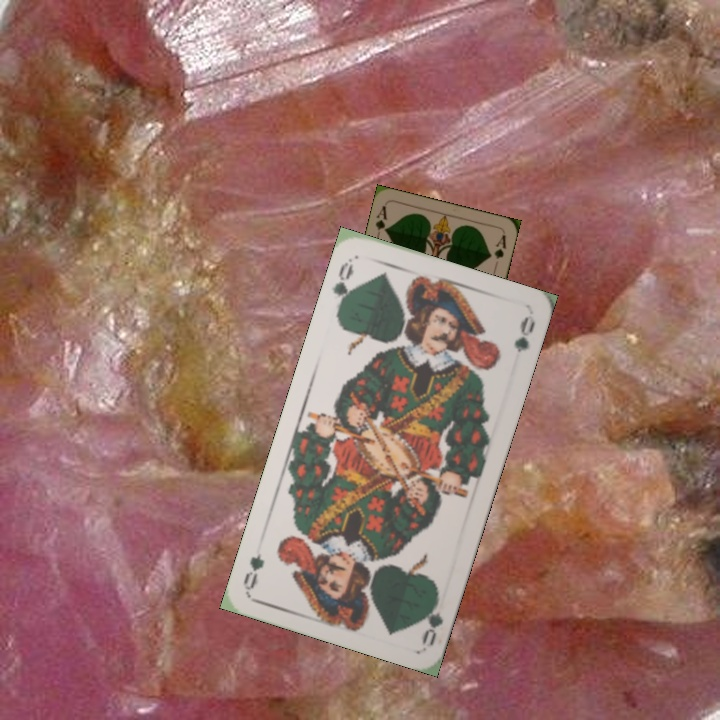GA: (371, 201, 390, 242)
GO: (417, 587, 446, 648), (328, 255, 357, 314)
